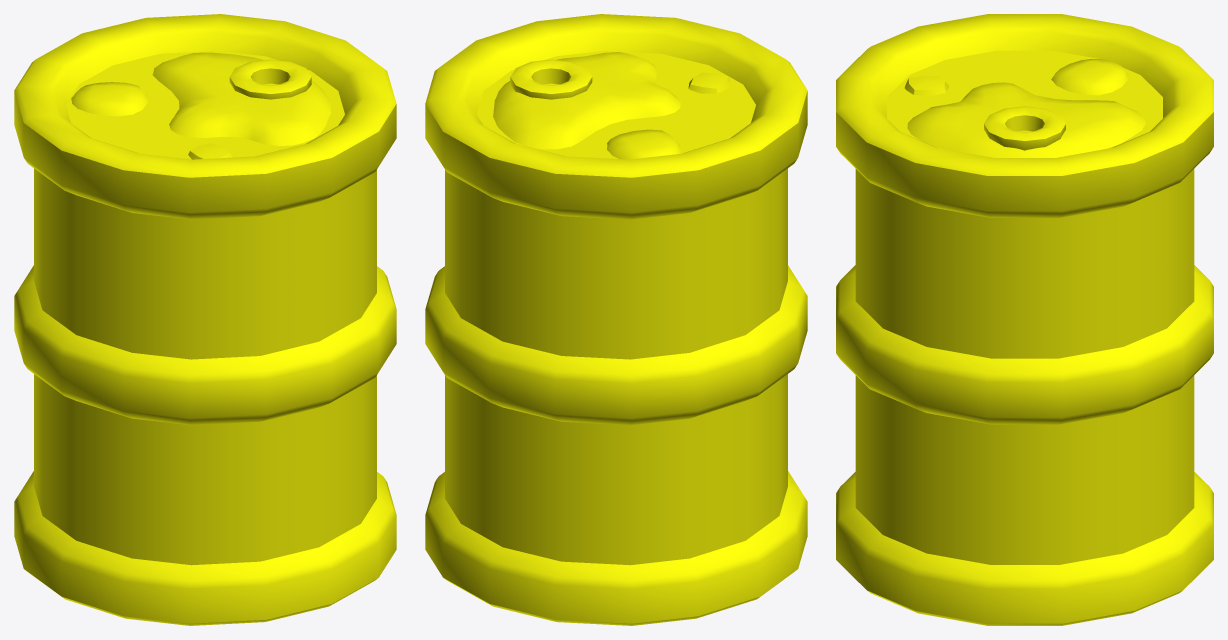
Rendered from kaykit-fuel-b-barrel-dirty.glb.
The picture shows the model from 3 angles, left to right: view 1: azimuth 30°, elevation 25°; view 2: azimuth 150°, elevation 25°; view 3: azimuth 270°, elevation 25°; orthographic projection.
Visible parts, largest first — view 1: Fuel_B_Barrel_Dirty; view 2: Fuel_B_Barrel_Dirty; view 3: Fuel_B_Barrel_Dirty.
Boxes of the visible parts, bbox=[...] form: Fuel_B_Barrel_Dirty: bbox=[14, 14, 396, 625]; Fuel_B_Barrel_Dirty: bbox=[425, 14, 807, 625]; Fuel_B_Barrel_Dirty: bbox=[836, 14, 1213, 625].
Bounding box in the file's own units: 0.7501 × 1.01 × 0.7501.
